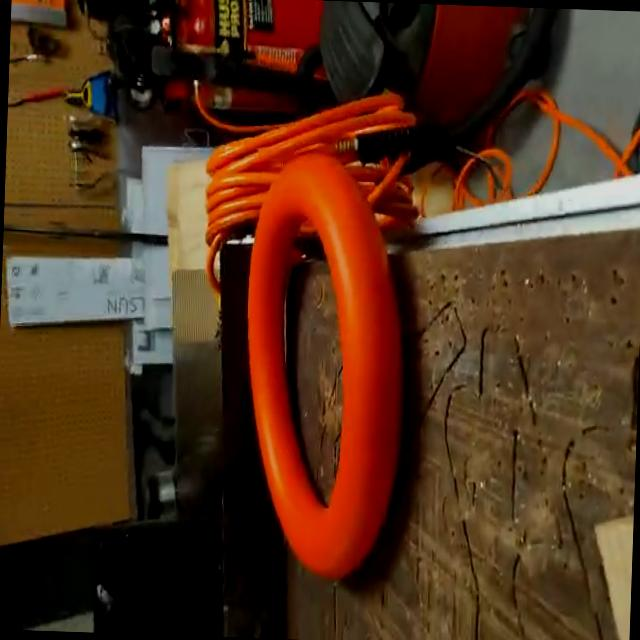note: (236, 149, 412, 582)
